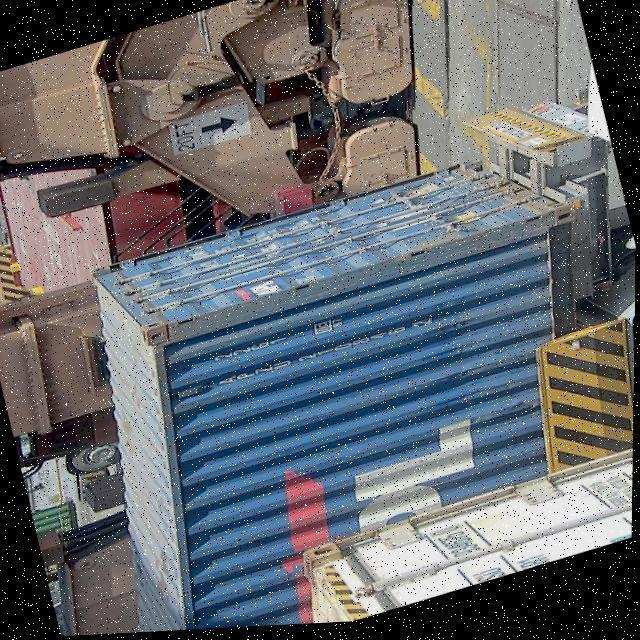rust: (131, 204, 574, 358), (287, 527, 394, 593)
